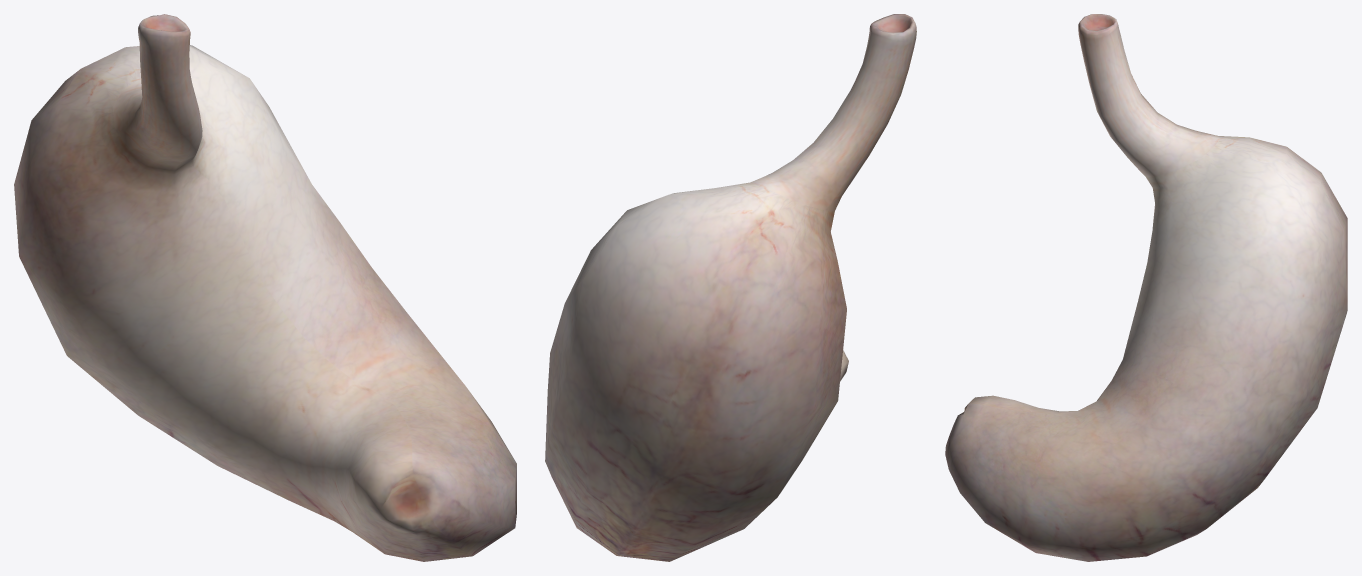
The model's file is asset3.glb.
The picture shows the model from 3 angles, left to right: view 1: azimuth 30°, elevation 25°; view 2: azimuth 150°, elevation 25°; view 3: azimuth 270°, elevation 25°; orthographic projection. The views are drawn at different scales.
Parts seen in each view (by area): view 1: Stomach_pivot; view 2: Stomach_pivot; view 3: Stomach_pivot.
Boxes of the visible parts, x1,y1,x2,y2 form: Stomach_pivot: (14, 14, 516, 561); Stomach_pivot: (545, 14, 916, 561); Stomach_pivot: (945, 14, 1347, 561).
Size of the model in its own units: 0.1528 by 0.2424 by 0.1988.
Materials: 1 (1 with a texture image).
